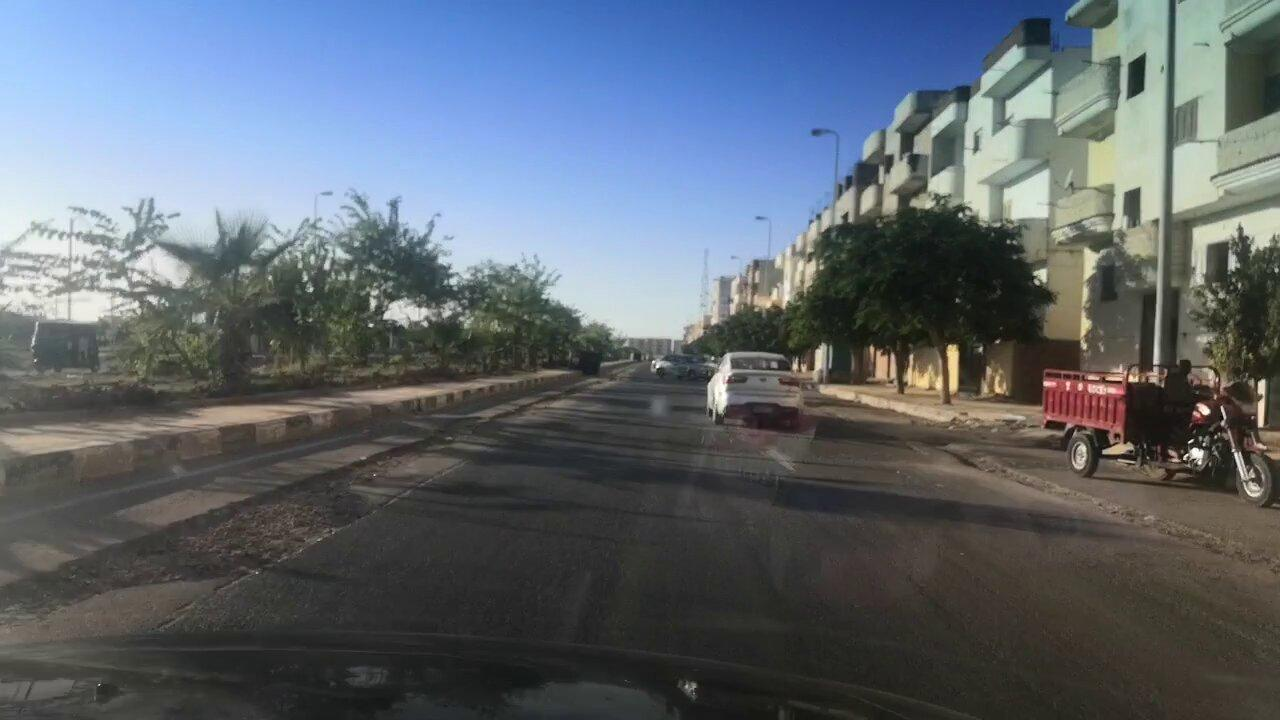Pothole: (27, 403, 495, 612)
